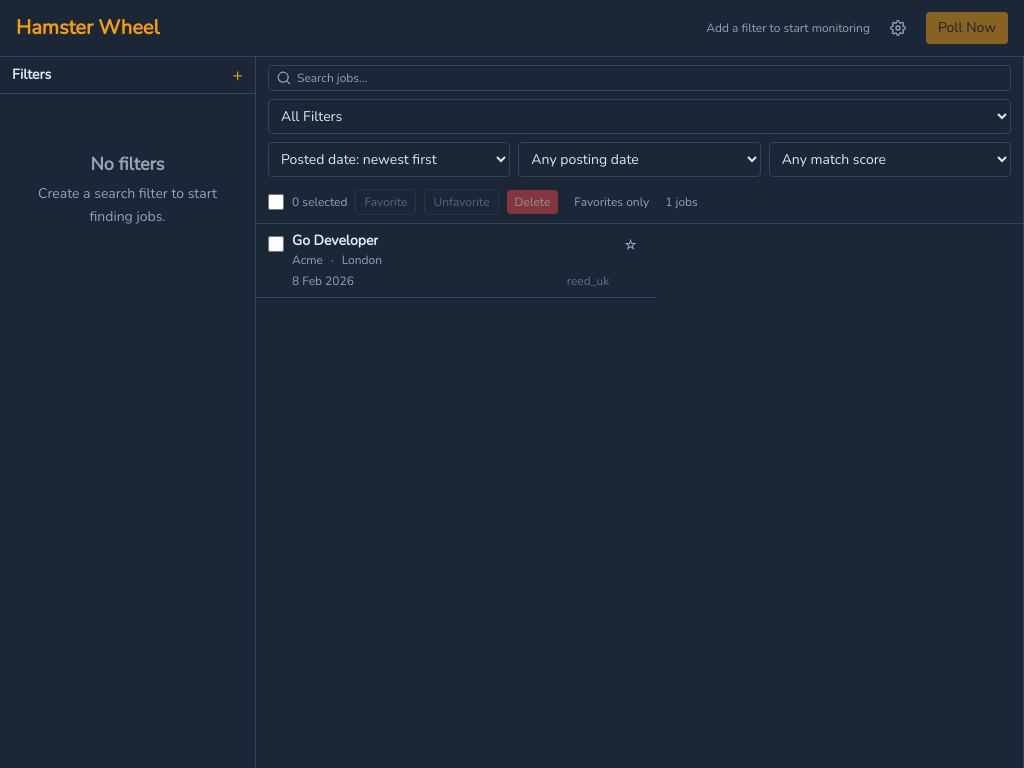
Test: App › keeps job detail open when delete fails
Click the text "Go Developer" at (335, 241), box x1=292 y1=232 x2=378 y2=250
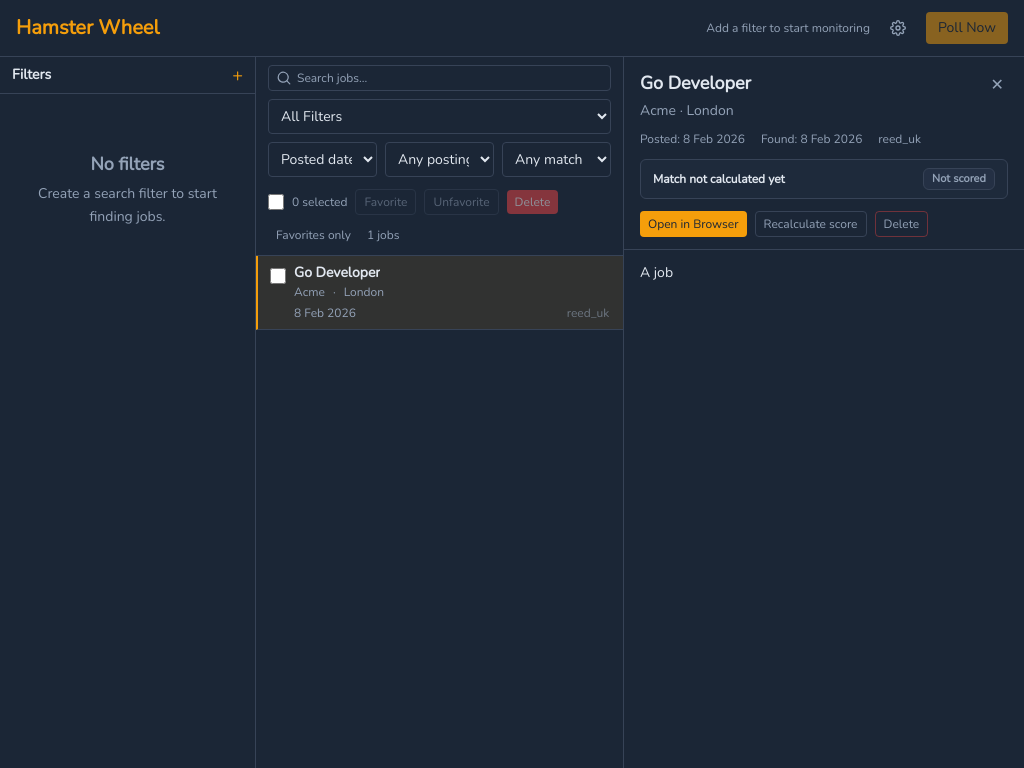
Click the button with aria-label "delete job" at (901, 224), box x1=874 y1=211 x2=928 y2=237
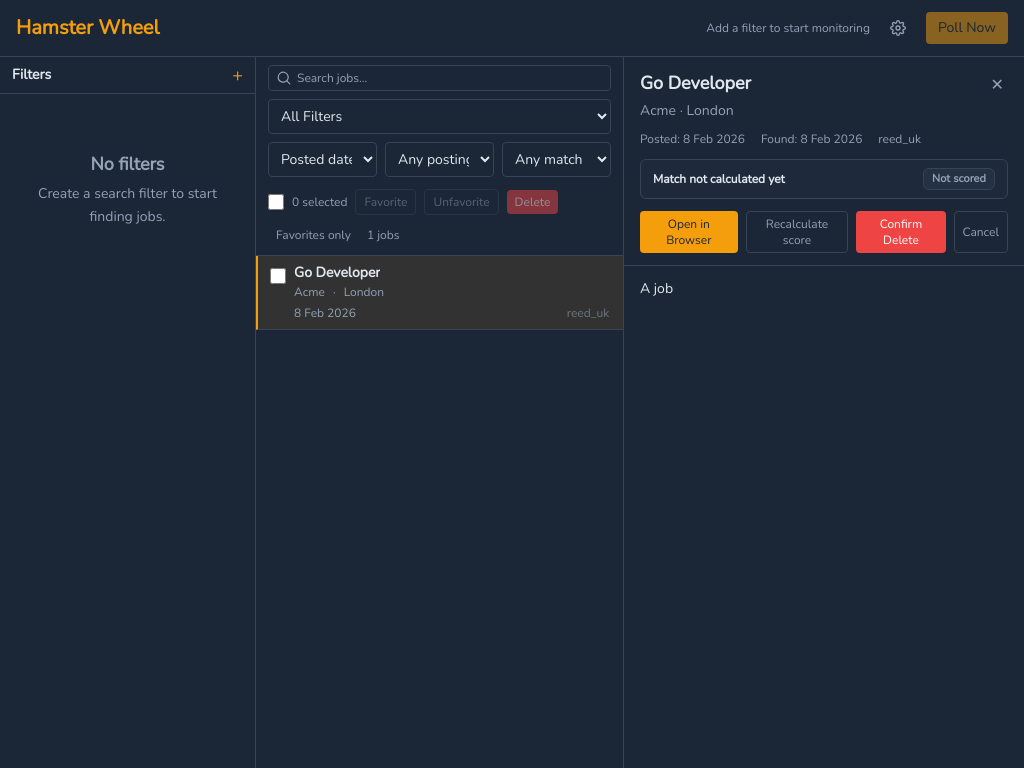
Click the button "Confirm Delete" at (901, 232), box x1=856 y1=211 x2=946 y2=253
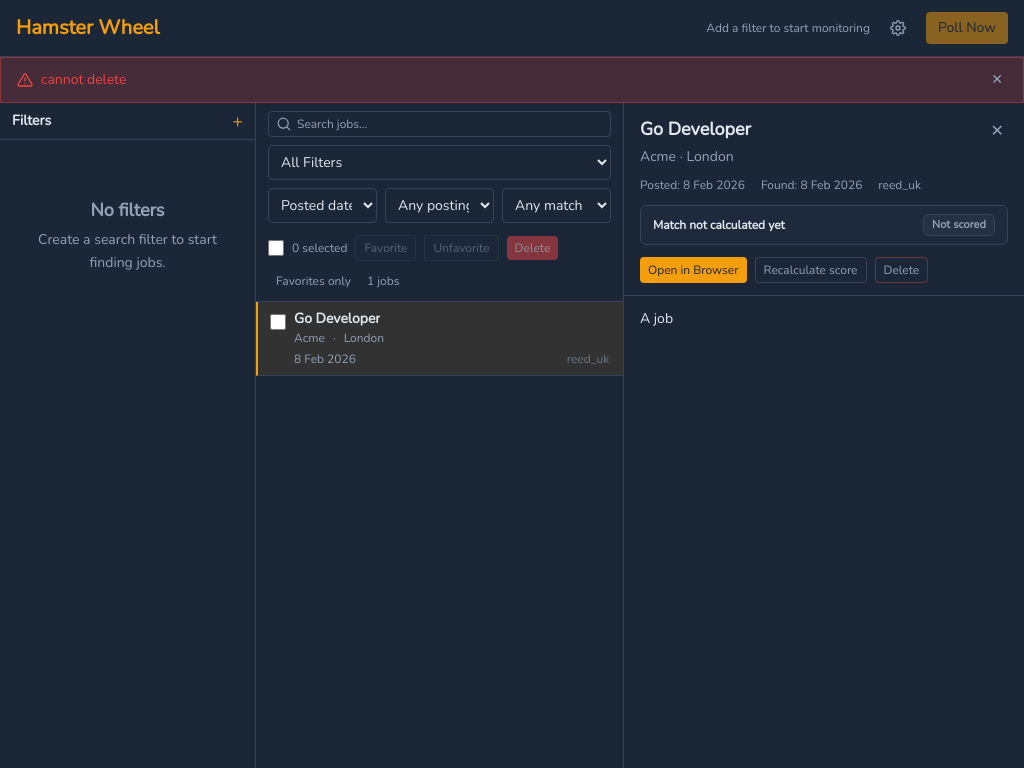
Expected: the button named "close detail" is shown, x1=987 y1=115 x2=1008 y2=147
Expected: the text "cannot delete" is shown, x1=17 y1=69 x2=126 y2=91
